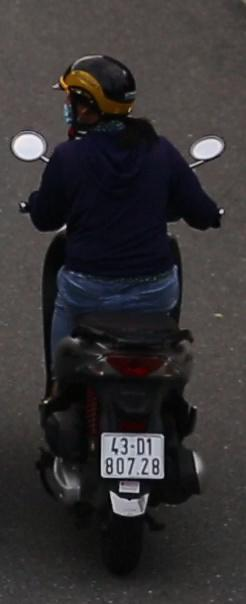LP: (97, 428, 168, 485)
helmet: (58, 48, 140, 129)
